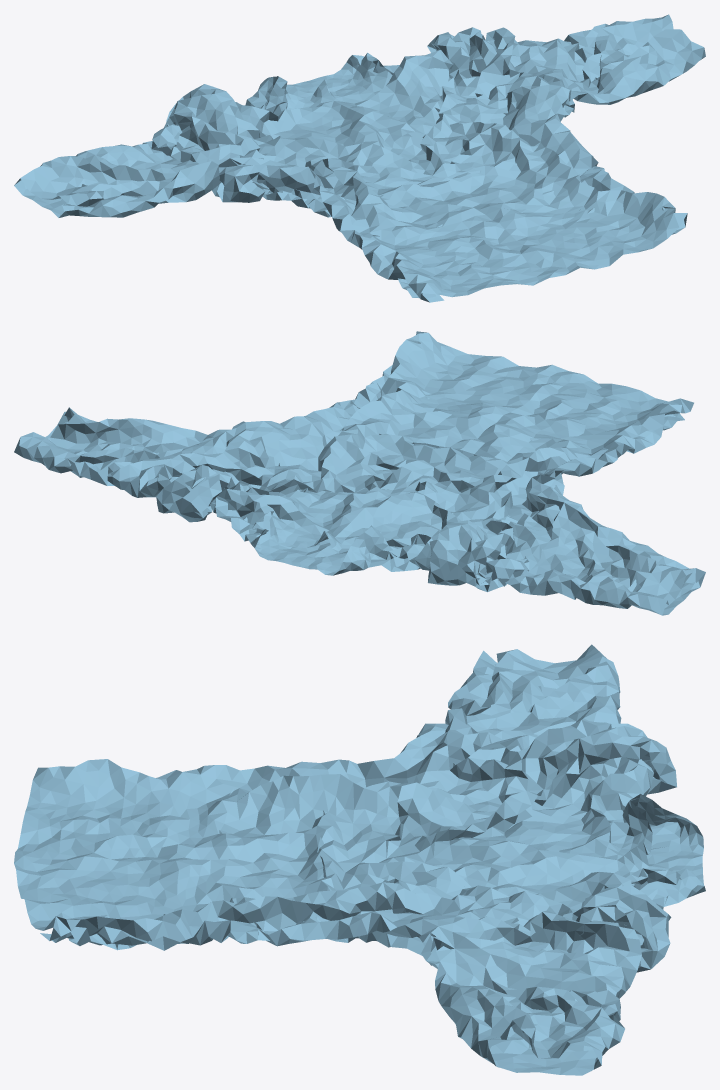
File: frame_00.glb
3 views of the same model, one above another, from view 1: azimuth 30°, elevation 25°; view 2: azimuth 150°, elevation 25°; view 3: azimuth 270°, elevation 25° (orthographic). The views are drawn at different scales.
Parts seen in each view (by area): view 1: frame_00.obj; view 2: frame_00.obj; view 3: frame_00.obj.
Part boxes in pixels (<box>): frame_00.obj: <box>14,14,705,302</box>; frame_00.obj: <box>14,331,705,615</box>; frame_00.obj: <box>14,644,705,1075</box>.
Bounding box in the file's own units: 1.9 × 0.1572 × 1.35.
